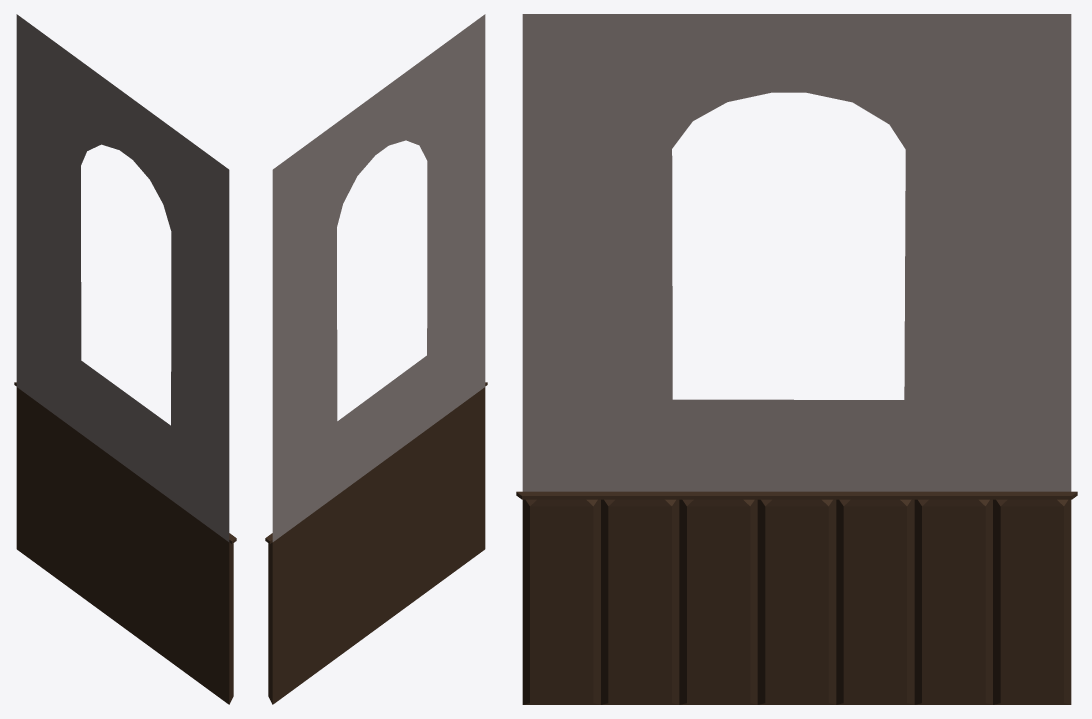
Rendered from wall_for_window.fbx.
The picture shows the model from 3 angles, left to right: view 1: azimuth 30°, elevation 25°; view 2: azimuth 150°, elevation 25°; view 3: azimuth 270°, elevation 25°; orthographic projection. The views are drawn at different scales.
Visible parts, largest first — view 1: Wall.001; view 2: Wall.001; view 3: Wall.001.
Boxes of the visible parts, x1,y1,x2,y2 form: Wall.001: (14, 14, 236, 704); Wall.001: (265, 14, 487, 704); Wall.001: (516, 14, 1077, 704).
Size of the model in its own units: 3.63 by 250 by 184.
